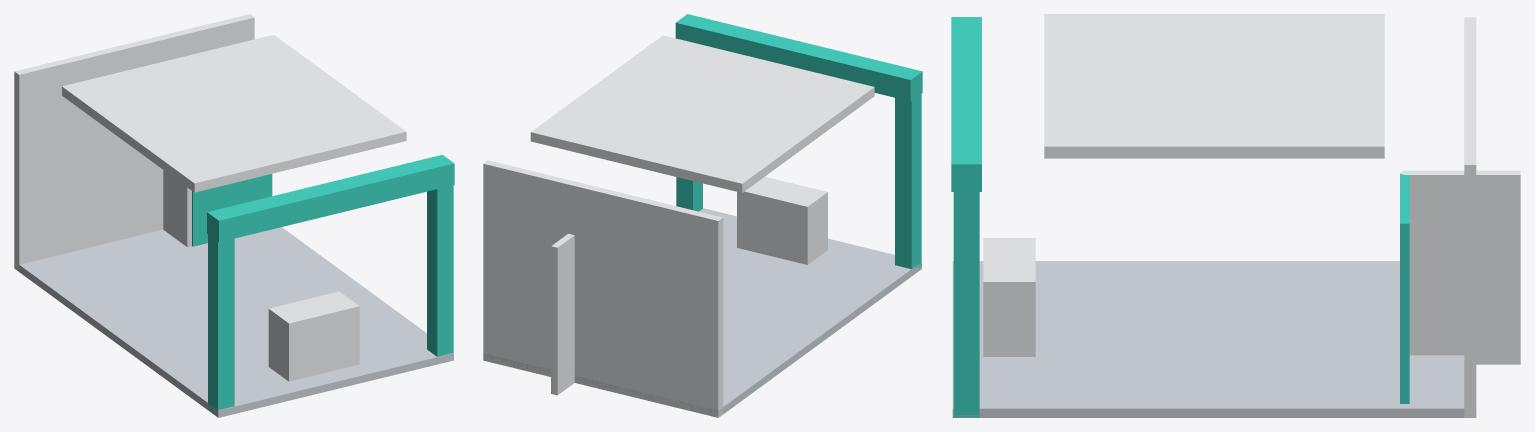
The picture shows the model from 3 angles, left to right: view 1: azimuth 30°, elevation 25°; view 2: azimuth 150°, elevation 25°; view 3: azimuth 270°, elevation 25°; orthographic projection. The views are drawn at different scales.
Visible parts, largest first — view 1: Exhibition Booth Concept; view 2: Exhibition Booth Concept; view 3: Exhibition Booth Concept.
Boxes of the visible parts, bbox=[...] form: Exhibition Booth Concept: bbox=[14, 14, 454, 417]; Exhibition Booth Concept: bbox=[483, 14, 922, 417]; Exhibition Booth Concept: bbox=[951, 14, 1520, 417].
Size of the model in its own units: 4 by 3.34 by 6.52.
